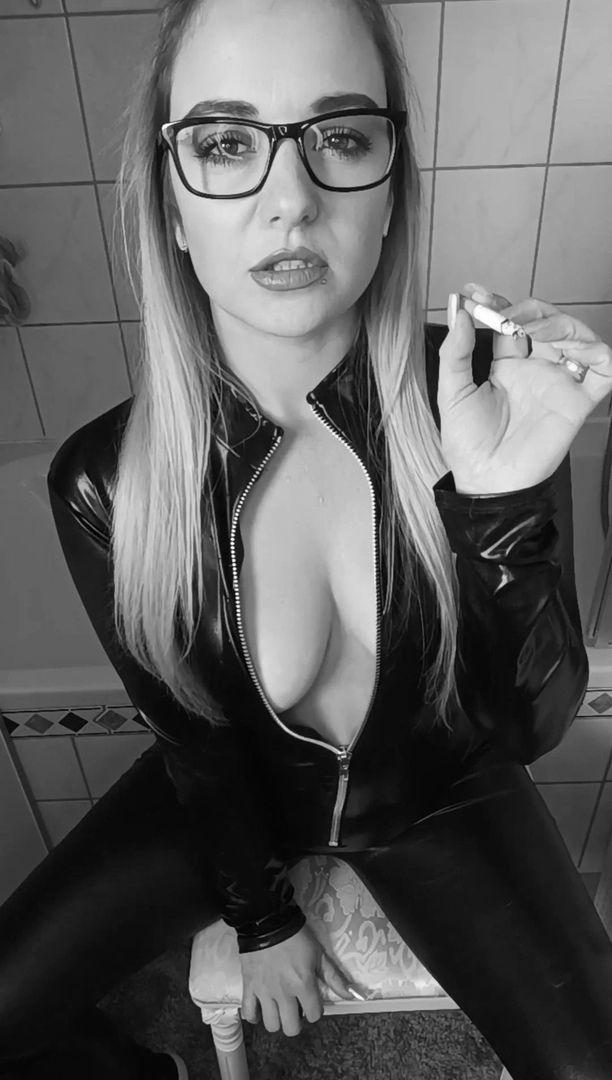cigarette: (459, 293, 523, 336)
